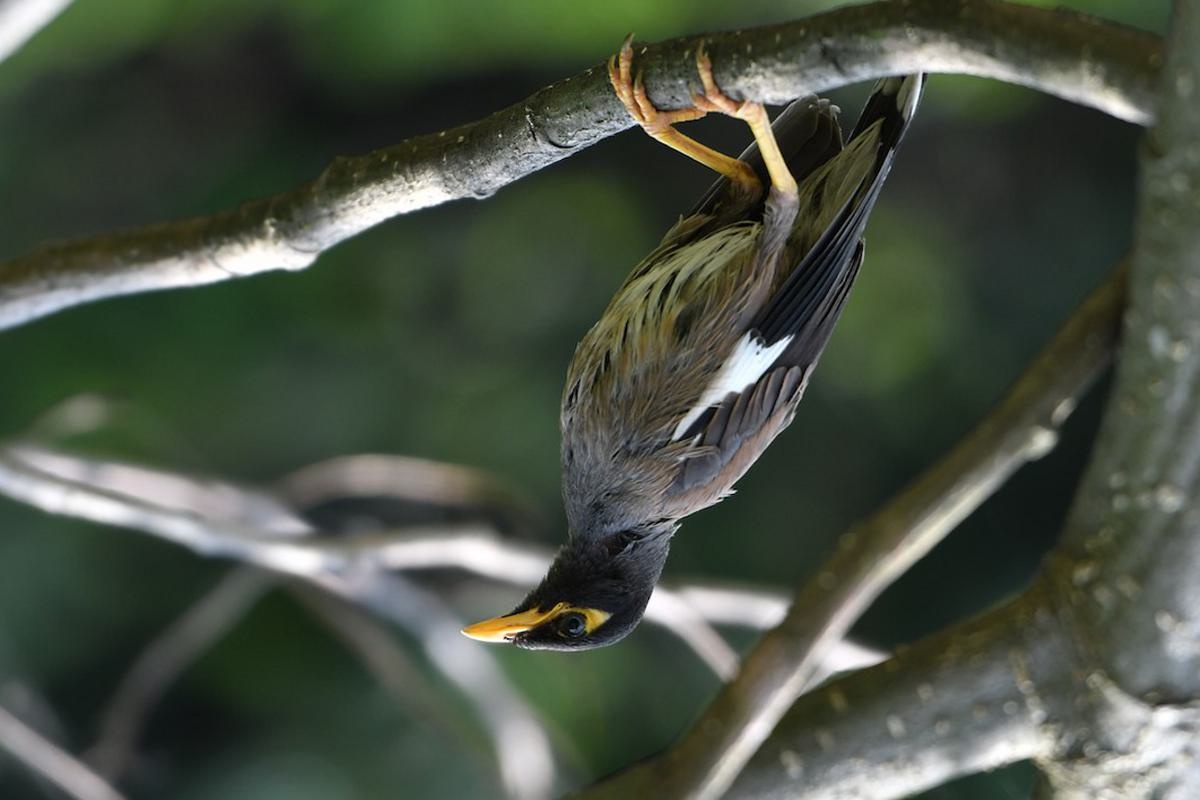myna: (449, 53, 1030, 691)
